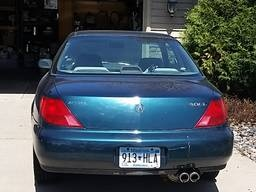acura: (30, 25, 236, 186)
